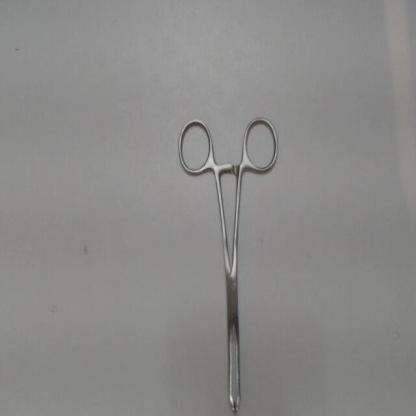Allis Tissue Forceps: (171, 111, 284, 416)
